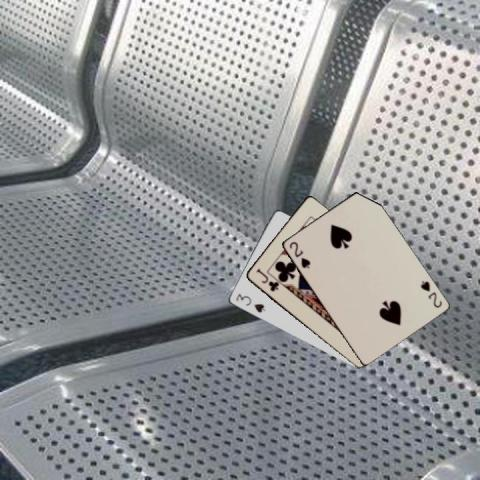2s: (418, 278, 444, 309), (286, 239, 311, 270)
3s: (232, 291, 266, 314)
Jc: (253, 266, 280, 293)
